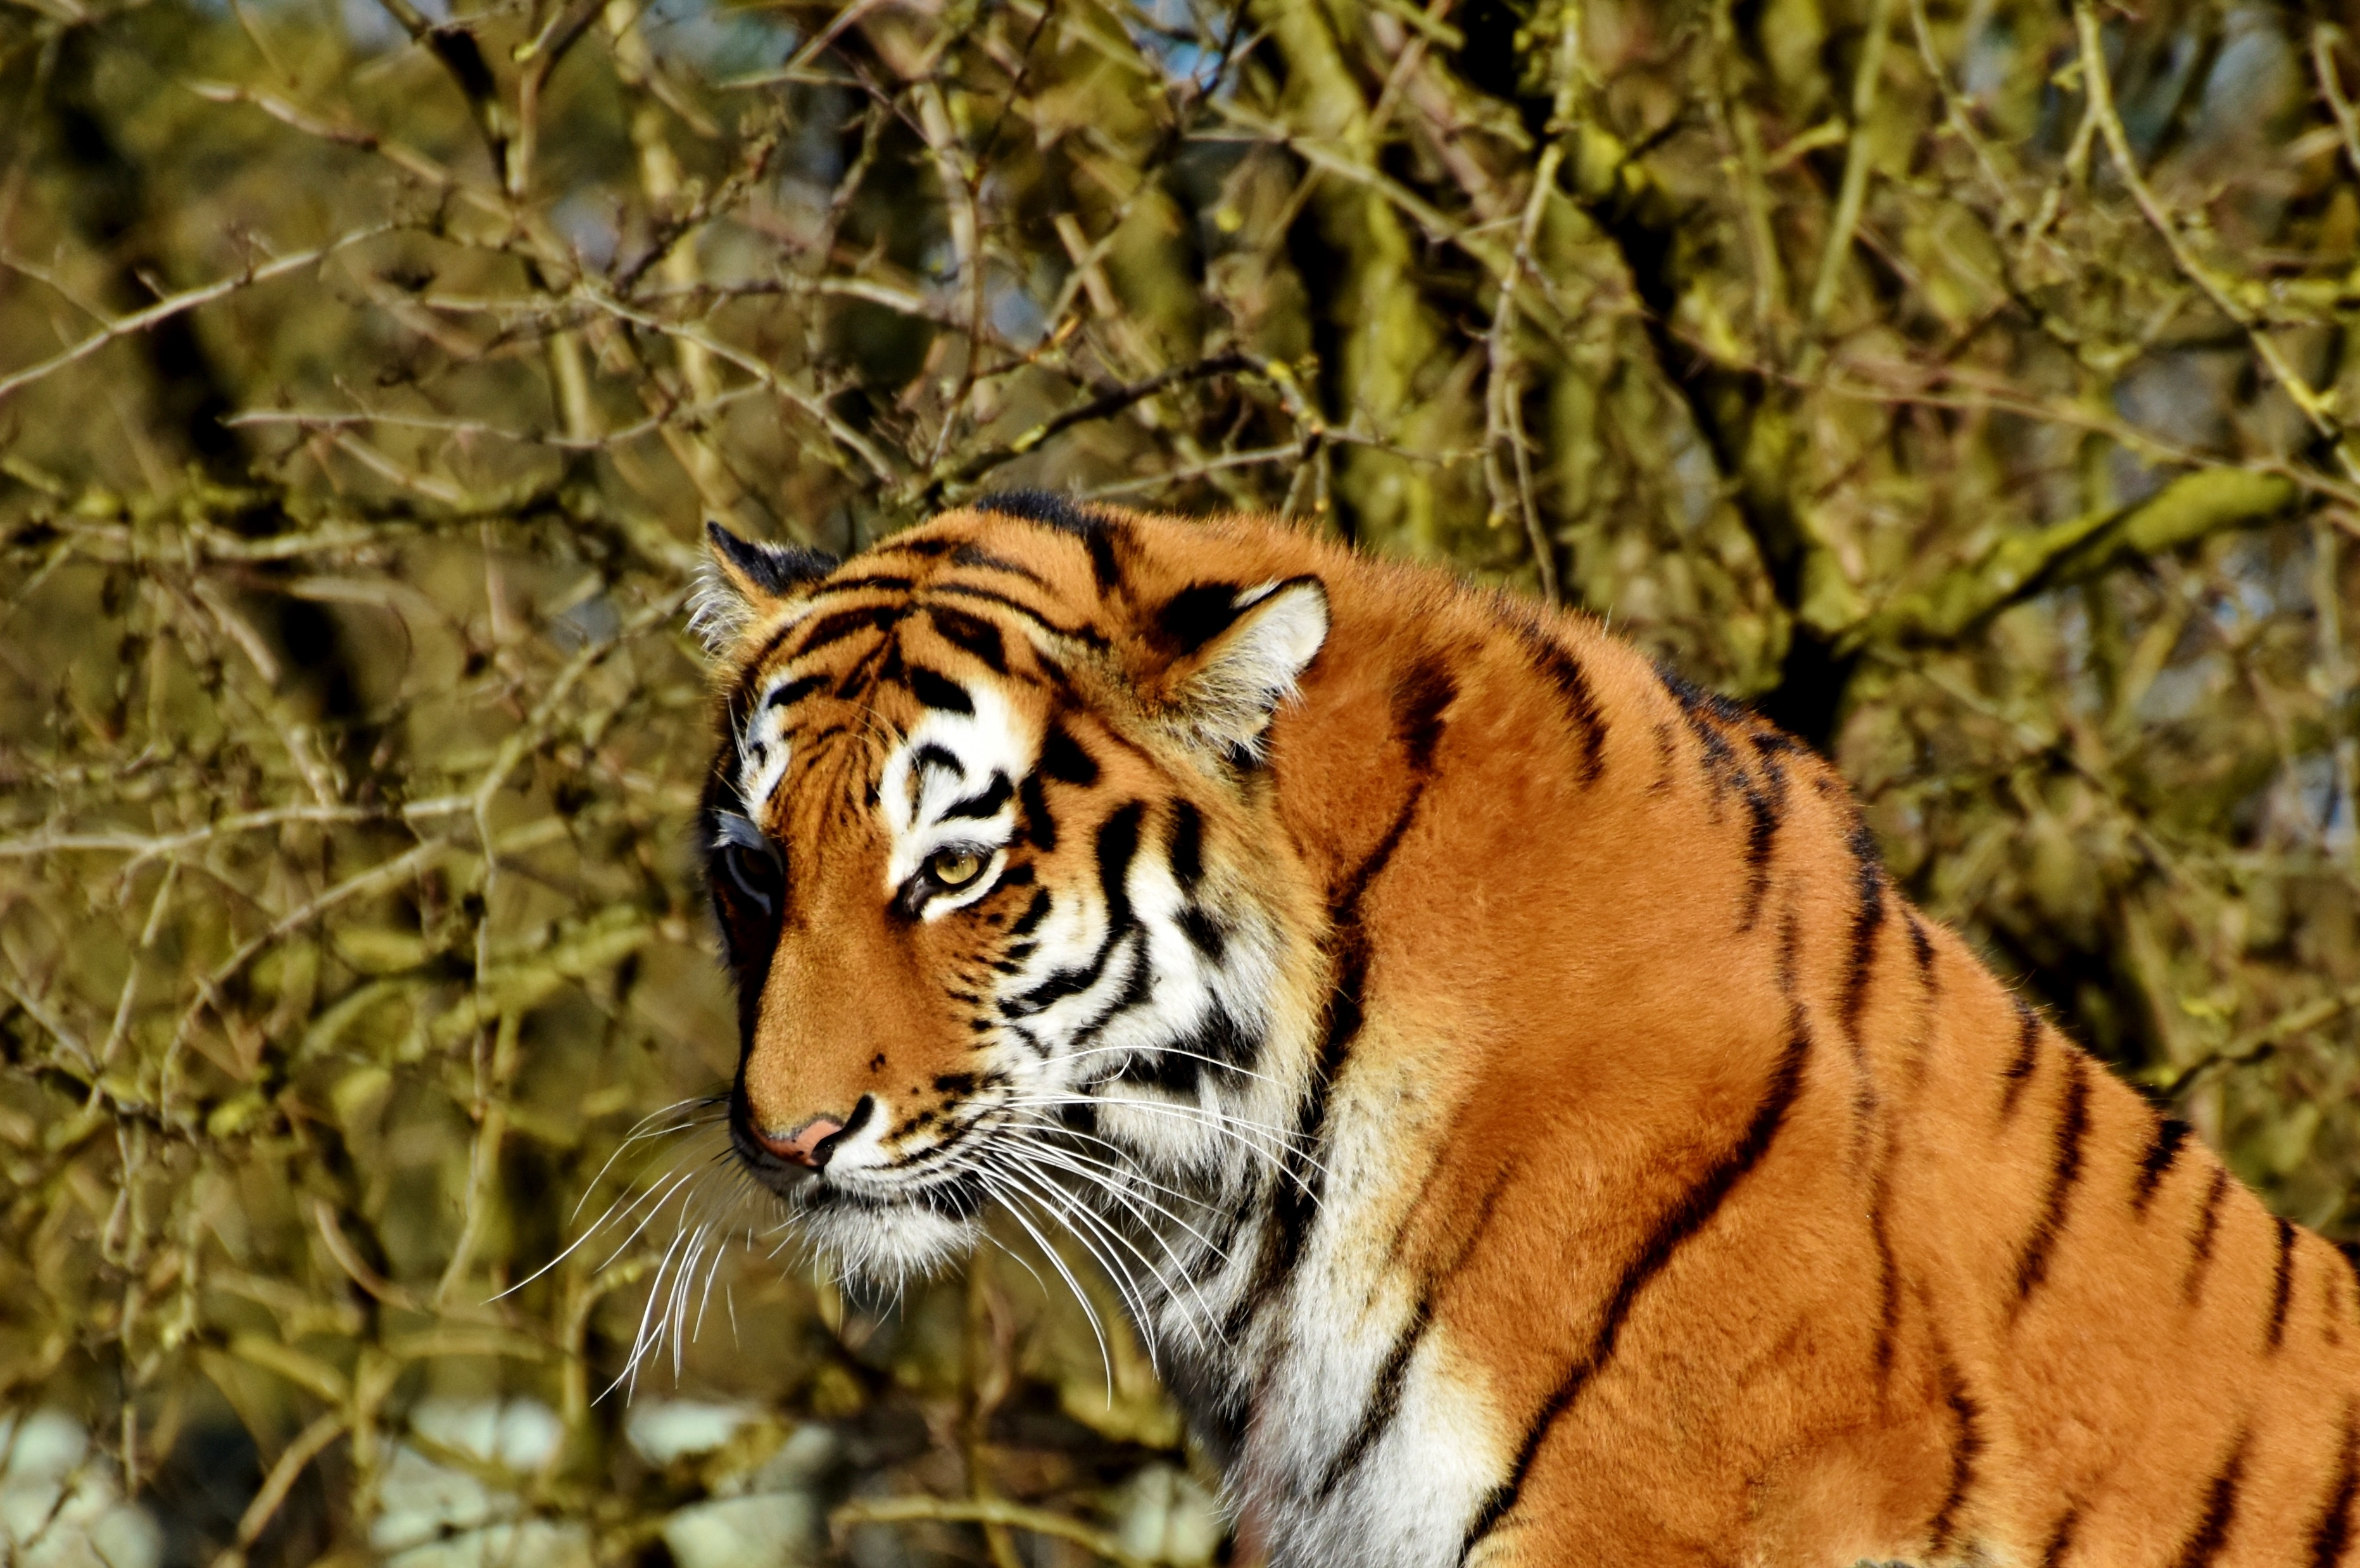tiger: (576, 453, 2337, 1568)
